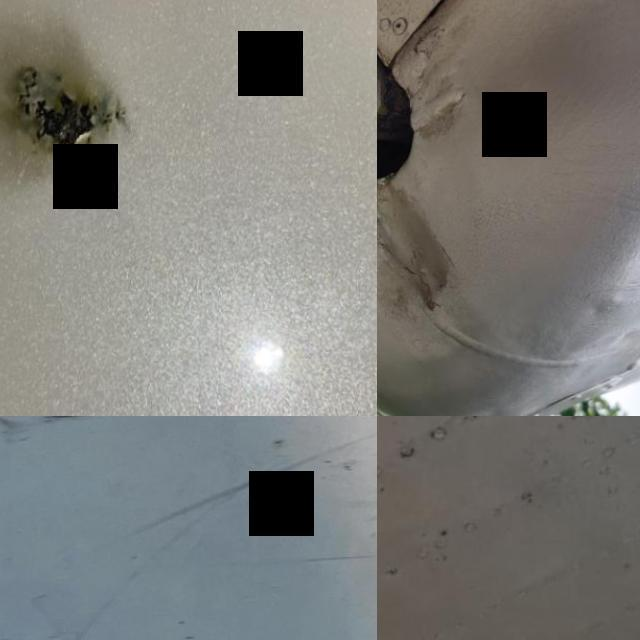Crack: (10, 66, 126, 152)
Dent: (377, 175, 515, 336), (399, 60, 482, 146)
